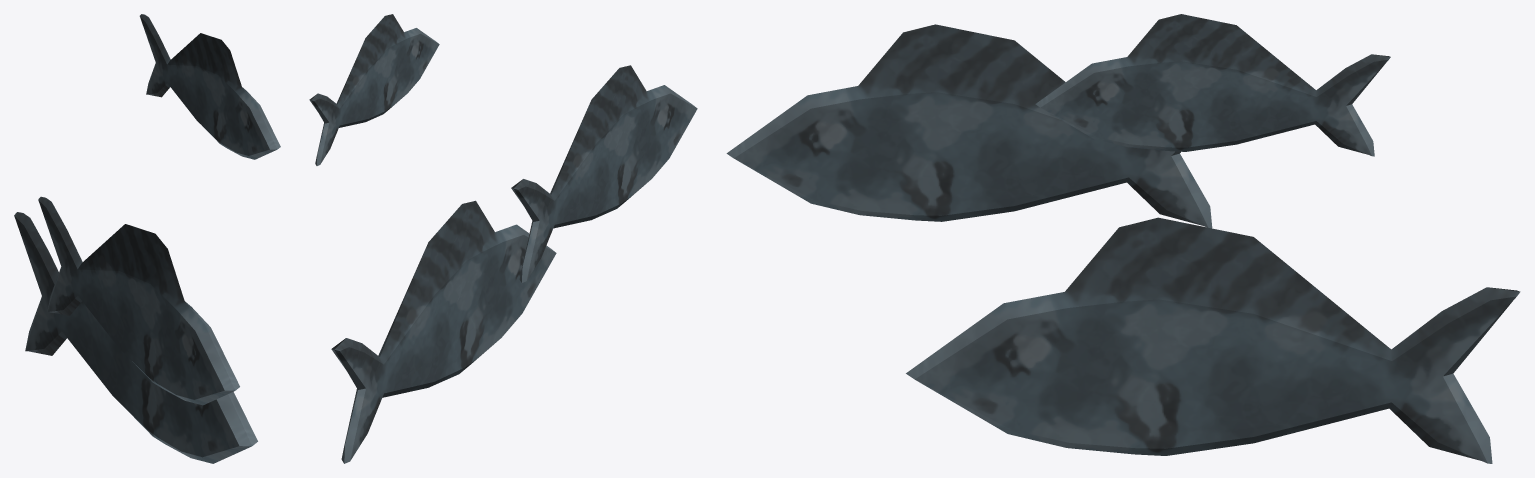
File: Fish.fbx
The picture shows the model from 3 angles, left to right: view 1: azimuth 30°, elevation 25°; view 2: azimuth 150°, elevation 25°; view 3: azimuth 270°, elevation 25°; orthographic projection. The views are drawn at different scales.
Parts seen in each view (by area): view 1: Fish4; view 2: Fish4; view 3: Fish4.
Boxes of the visible parts, x1,y1,x2,y2 form: Fish4: (14,14,280,463); Fish4: (309,14,697,463); Fish4: (726,14,1520,463).
Bounding box in the file's own units: 18.57 × 38.96 × 56.34.
